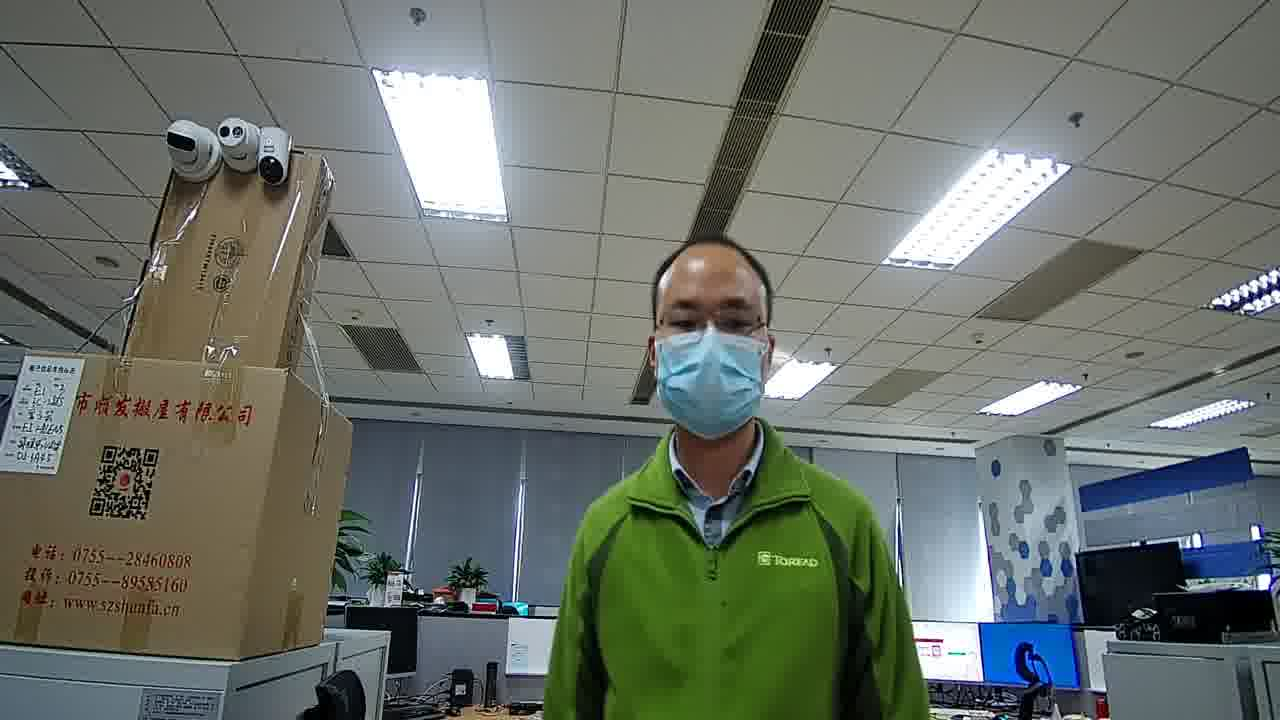face: (653, 257, 765, 446)
mask: (653, 324, 763, 442)
person: (557, 219, 883, 561)
